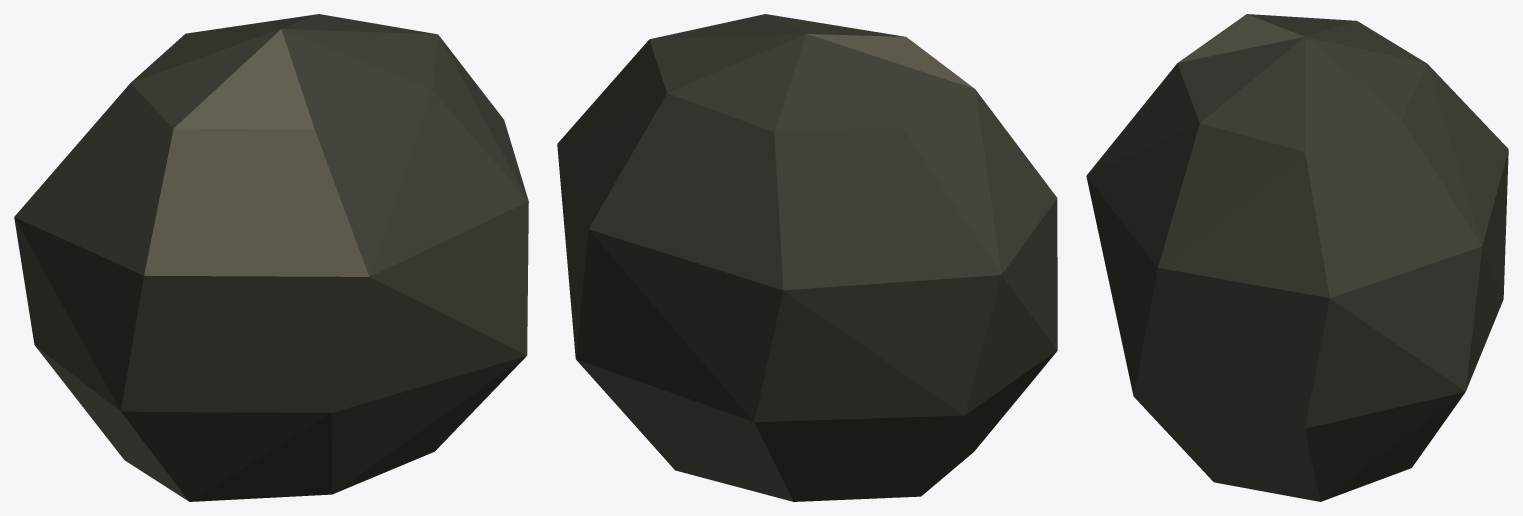
The model's file is Rock_Boulder_03.fbx.
3 renders of one model, left to right at view 1: azimuth 30°, elevation 25°; view 2: azimuth 150°, elevation 25°; view 3: azimuth 270°, elevation 25°, orthographic. The views are drawn at different scales.
Parts seen in each view (by area): view 1: Rock_Boulder_03_Mesh; view 2: Rock_Boulder_03_Mesh; view 3: Rock_Boulder_03_Mesh.
Part boxes in pixels (<box>): Rock_Boulder_03_Mesh: <box>14,14,528,501</box>; Rock_Boulder_03_Mesh: <box>557,14,1057,501</box>; Rock_Boulder_03_Mesh: <box>1086,14,1508,501</box>.
Size of the model in its own units: 2.65 by 2.48 by 2.17.
1 material, 1 textured.
